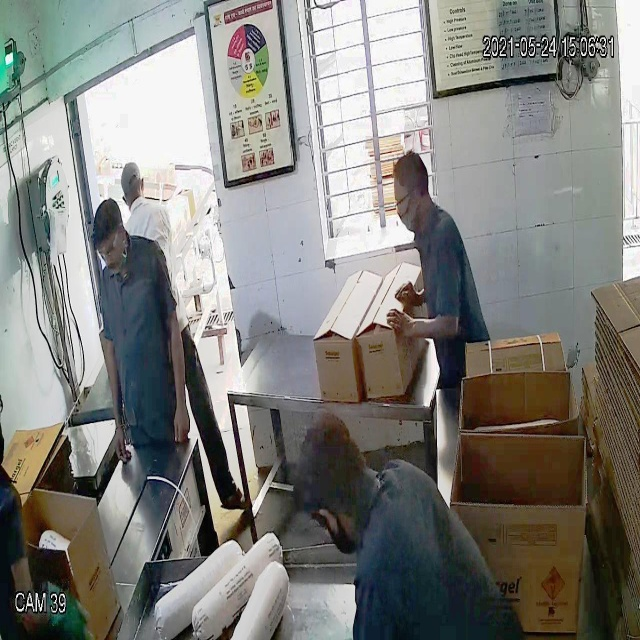Gafas: (93, 229, 121, 261)
